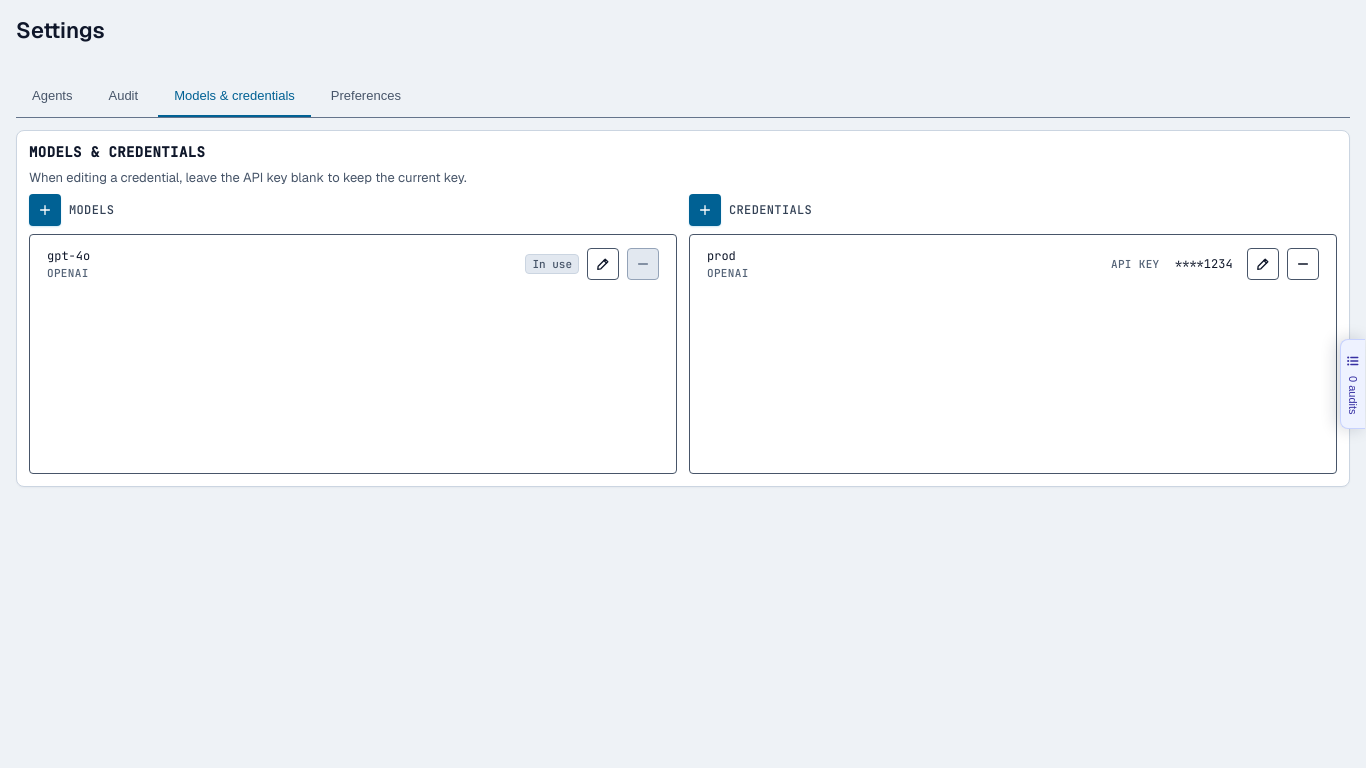
Test: SettingsPage › edits a model through its existing modal, keeping the provider fixed
The width and height of the screenshot is (1366, 768).
Check: the option "gpt-4o OpenAI In use" is shown, box [34,239,672,288]
Click the button named "Edit gpt-4o" at (603,264), box [587,248,619,280]
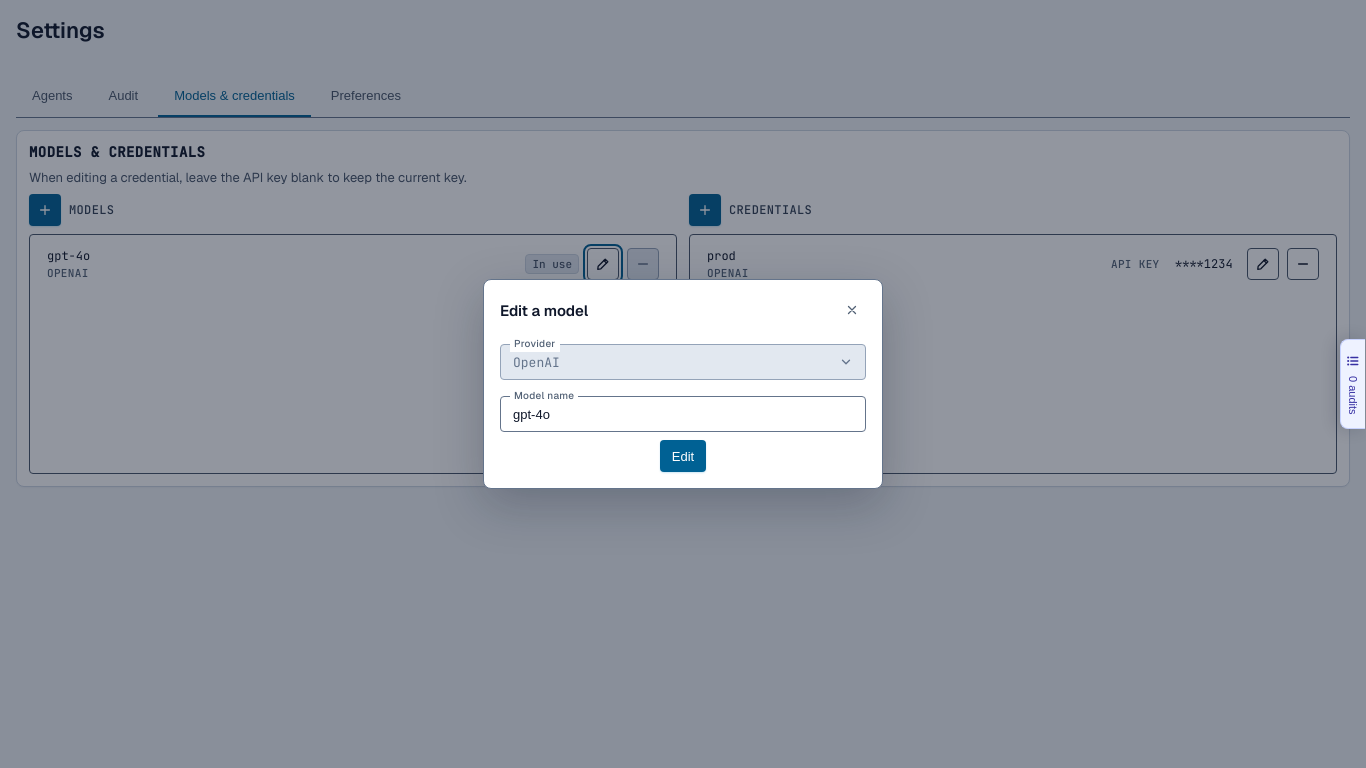
Check: the button "OpenAI" is disabled, box [500,344,866,380]
Check: the field with placeholder "Insert the model name..." holds "gpt-4o"
Replace the text in the field with placeholder "Insert the model name..." with "gpt-4.1" at (683,414), box [500,396,866,432]
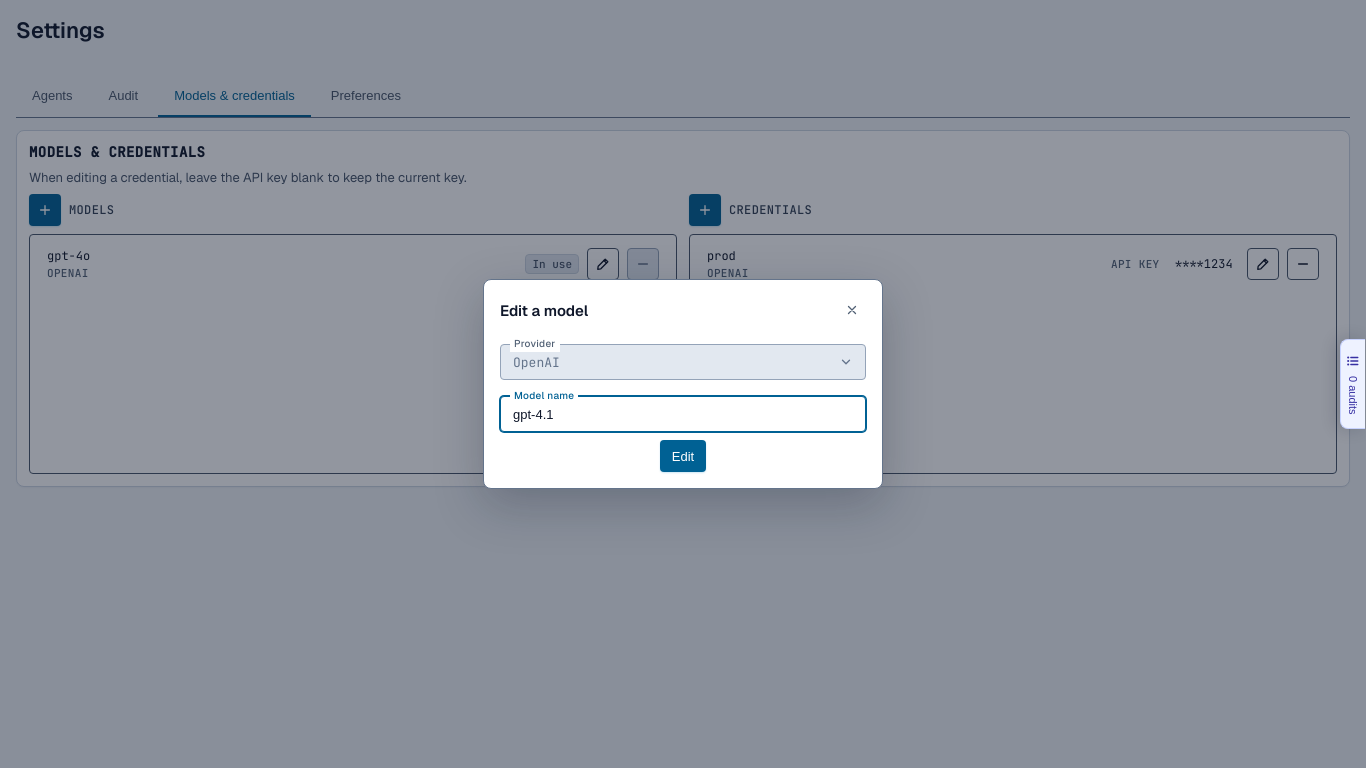
Click the button "Edit" at (683,456), box [660,440,706,472]
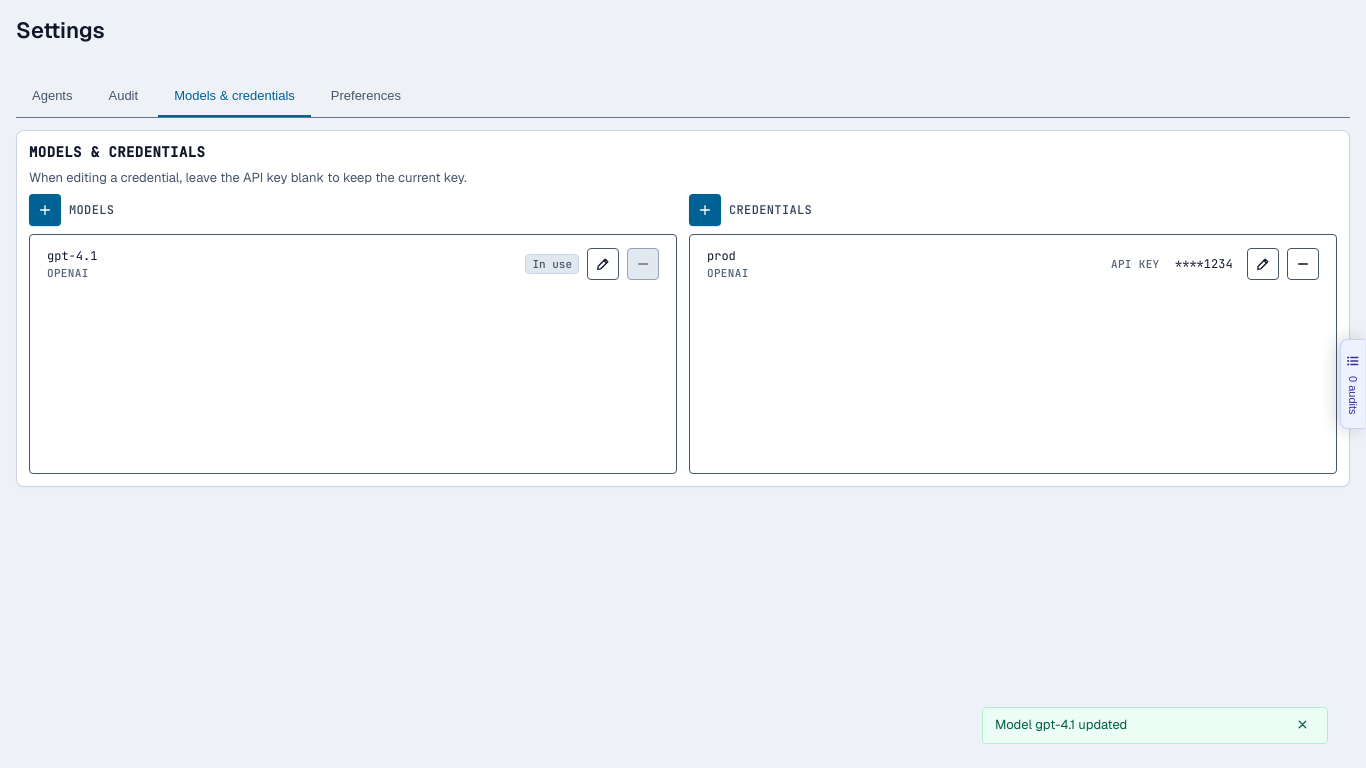
Check: the button named "Edit gpt-4.1" is shown, box [587,248,619,280]
Check: the dialog is gone
